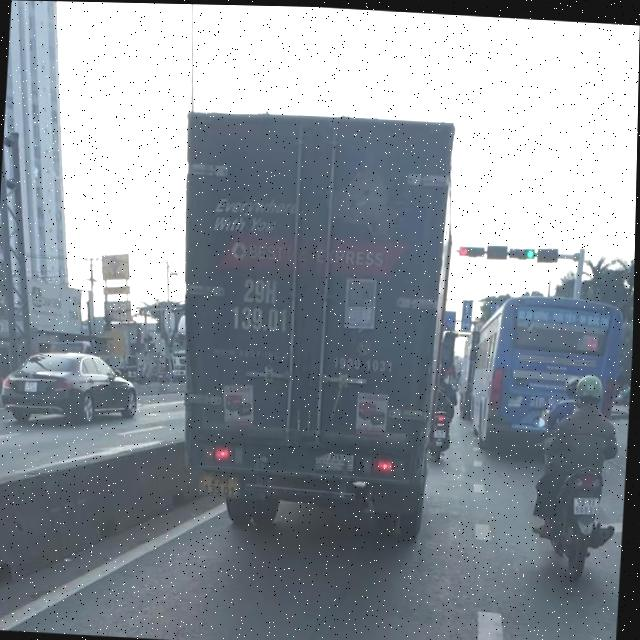car: (161, 93, 465, 543), (464, 288, 626, 462), (0, 343, 147, 434)
motorcycle: (536, 461, 621, 587), (419, 390, 463, 471)
plate: (191, 460, 248, 507), (8, 367, 45, 403), (568, 491, 605, 522)
